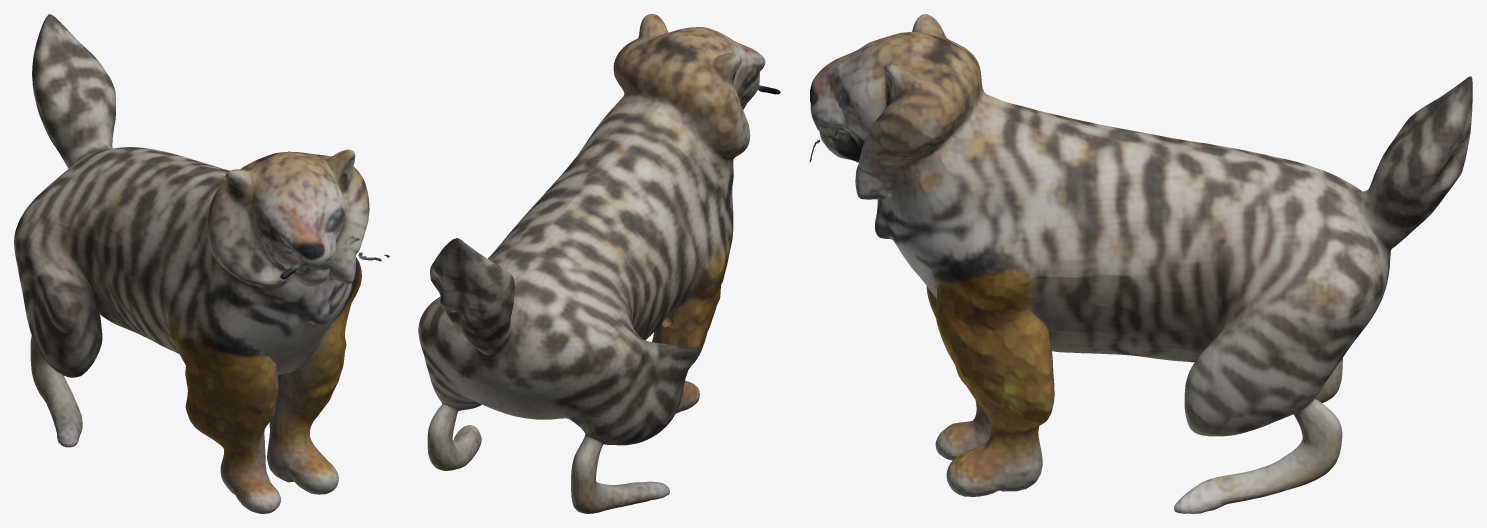
Rendered from sam3d.glb.
The picture shows the model from 3 angles, left to right: view 1: azimuth 30°, elevation 25°; view 2: azimuth 150°, elevation 25°; view 3: azimuth 270°, elevation 25°; orthographic projection. The views are drawn at different scales.
Visible parts, largest first — view 1: world; view 2: world; view 3: world.
Boxes of the visible parts, <box> form: world: <box>14,14,389,513</box>; world: <box>418,14,780,513</box>; world: <box>809,14,1472,513</box>.
Bounding box in the file's own units: 0.4789 × 0.7055 × 0.997.
